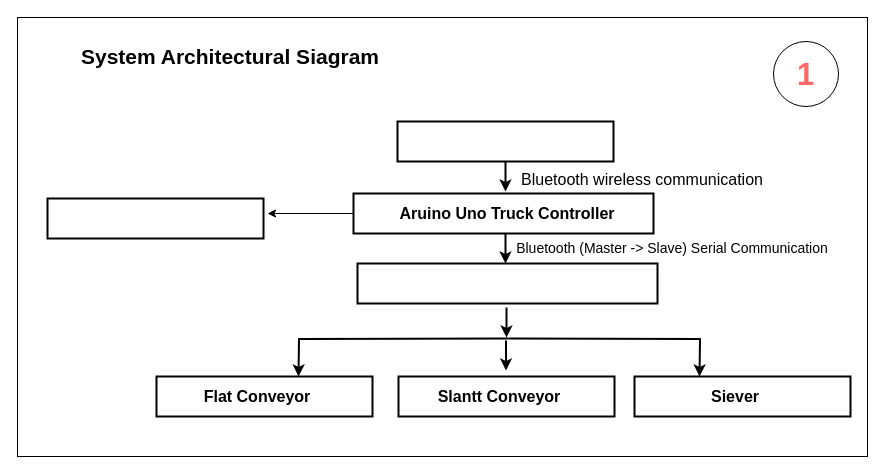
The diagram is 885 pixels wide and 474 high, and some of its shapes have lost their labels. Each missing label, with the centre of its shape:
Android Controller: the point at 505,141
Aruino Uno Sieving Hub Controller: the point at 507,283
Truck Mobile transport: the point at 155,218
